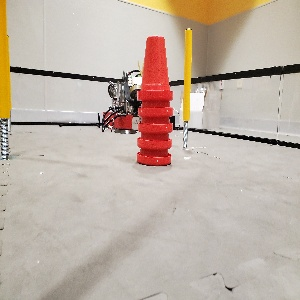Red_5: (137, 35, 172, 165)
